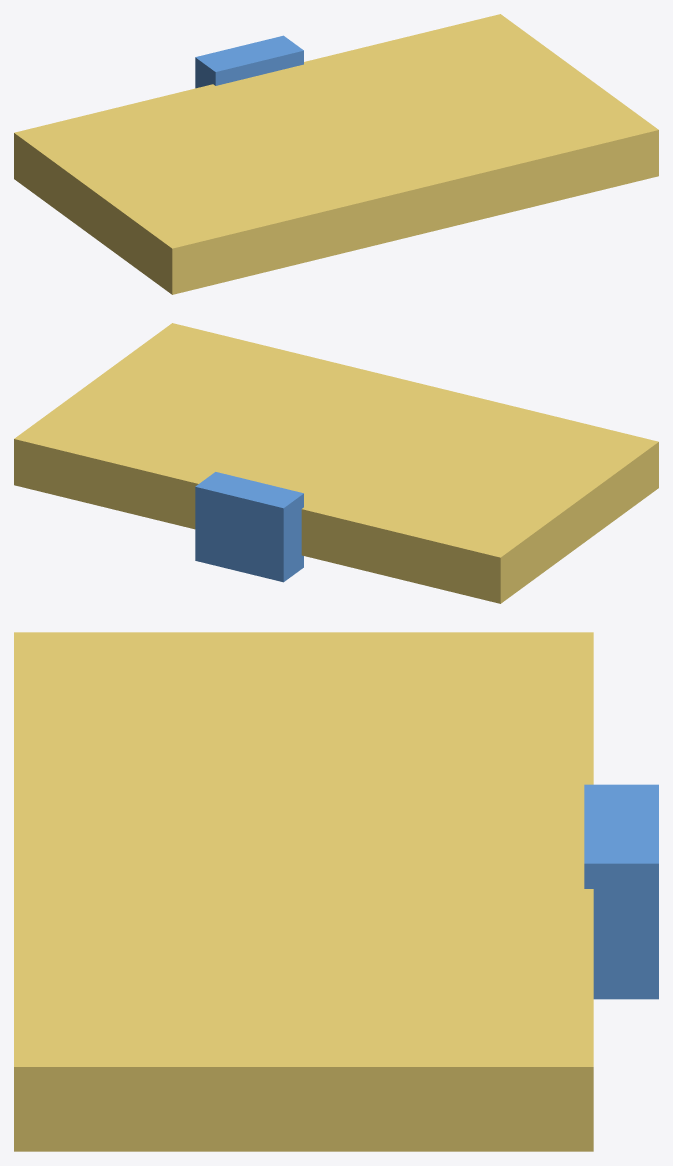
File: egipcio_cintura.glb
3 views of the same model, one above another, from view 1: azimuth 30°, elevation 25°; view 2: azimuth 150°, elevation 25°; view 3: azimuth 270°, elevation 25° (orthographic). The views are drawn at different scales.
Visible parts, largest first — view 1: egipcio_cintura; view 2: egipcio_cintura; view 3: egipcio_cintura.
Boxes of the visible parts, bbox=[...] form: egipcio_cintura: bbox=[14, 14, 658, 294]; egipcio_cintura: bbox=[14, 323, 658, 603]; egipcio_cintura: bbox=[14, 632, 658, 1151].
Bounding box in the file's own units: 0.55 × 0.08 × 0.345.
